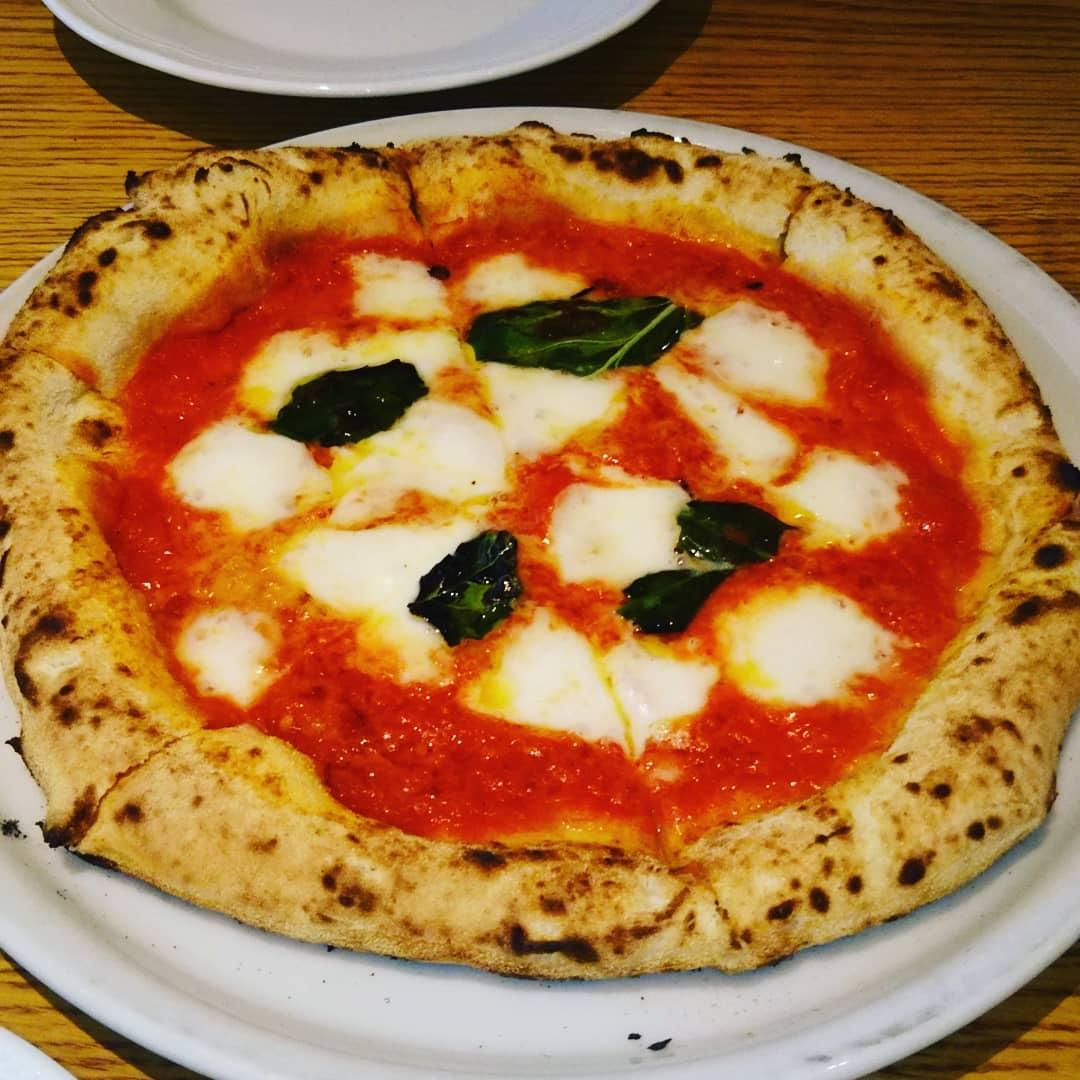Basil: (467, 295, 700, 387), (277, 367, 428, 452), (420, 528, 518, 637), (668, 497, 800, 558), (625, 565, 742, 633)
Cheese: (463, 625, 619, 744), (714, 604, 888, 704), (174, 419, 329, 525), (667, 364, 789, 483), (479, 359, 627, 451), (683, 303, 822, 399), (256, 318, 466, 374), (281, 532, 414, 616), (367, 410, 503, 490), (777, 452, 896, 543), (177, 606, 286, 698), (602, 653, 706, 747), (341, 247, 460, 325), (563, 488, 663, 573), (463, 258, 582, 307)
Pizza: (0, 138, 1080, 990)
